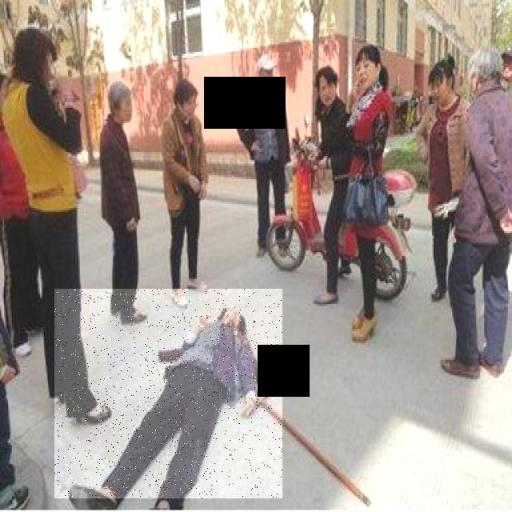Fall: (55, 289, 283, 498)
